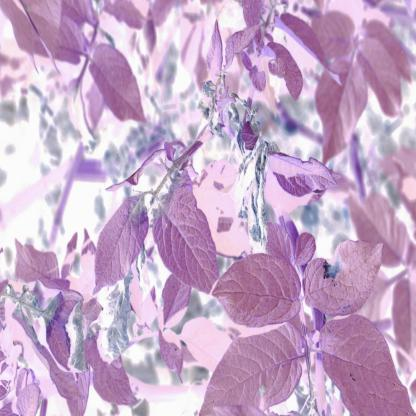Potato leaf late blight: (8, 285, 149, 357), (93, 188, 151, 295), (234, 138, 276, 260)
